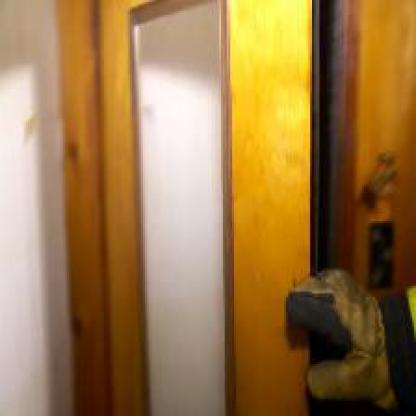other: (137, 49, 212, 380), (228, 0, 308, 141)
